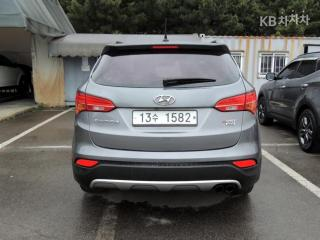1: (138, 112, 146, 124), (164, 111, 171, 123)
2: (185, 112, 191, 123)
3: (145, 112, 153, 124)
5: (171, 112, 178, 123)
8: (178, 112, 184, 123)
plate: (128, 106, 203, 129)
수: (152, 113, 158, 123)
